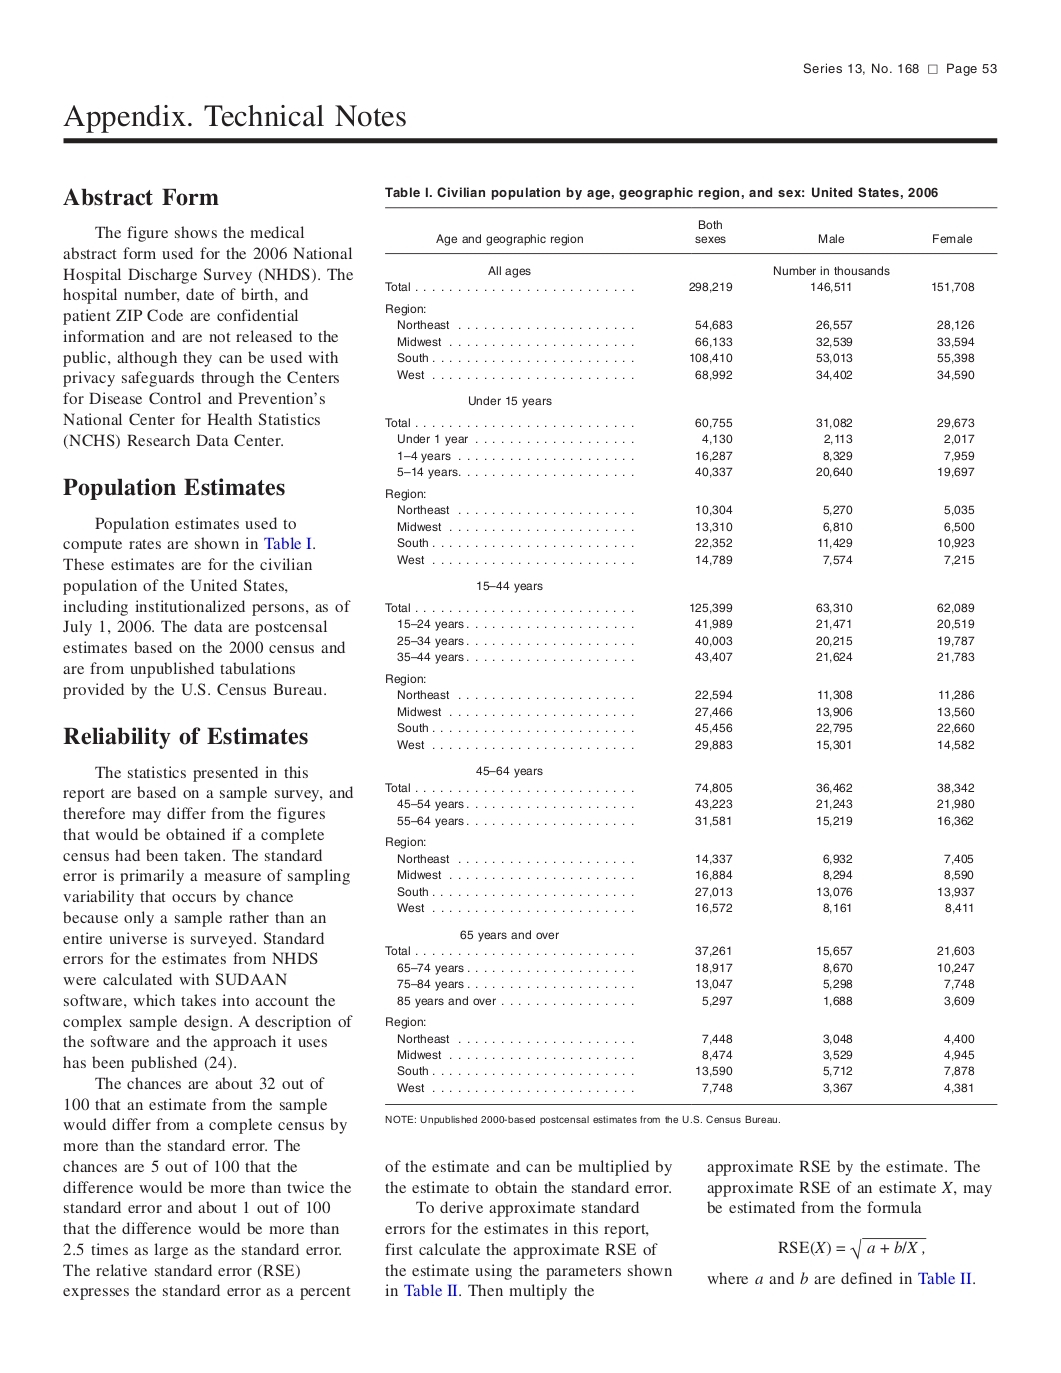Table: (385, 207, 997, 1104)
formula: (778, 1238, 926, 1259)
